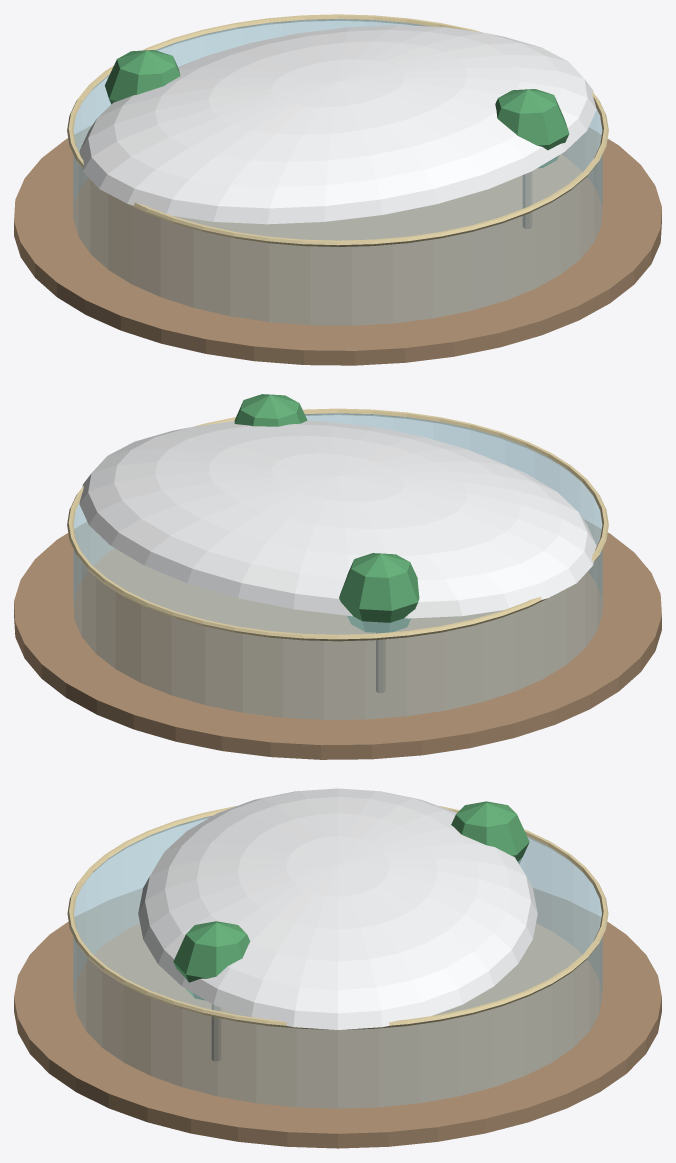
Rendered from reef-home-L.glb.
3 renders of one model, top to bottom at view 1: azimuth 30°, elevation 25°; view 2: azimuth 150°, elevation 25°; view 3: azimuth 270°, elevation 25°, orthographic.
Parts seen in each view (by area): view 1: Cylinder.015, Sphere.013, Cylinder.016, Torus.214, Sphere.014; view 2: Cylinder.015, Sphere.013, Cylinder.016, Sphere.014, Torus.214; view 3: Cylinder.015, Sphere.013, Cylinder.016, Sphere.014, Torus.214.
Boxes of the visible parts, box(x1,y1,x2,y2) form: Cylinder.015: box(14, 125, 661, 365); Sphere.013: box(79, 25, 596, 224); Cylinder.016: box(73, 19, 602, 325); Torus.214: box(67, 14, 608, 246); Sphere.014: box(105, 50, 569, 168); Cylinder.015: box(14, 520, 661, 759); Sphere.013: box(79, 420, 596, 618); Cylinder.016: box(73, 413, 602, 719); Sphere.014: box(234, 394, 419, 632); Torus.214: box(67, 408, 608, 641); Cylinder.015: box(14, 888, 661, 1148); Sphere.013: box(138, 788, 537, 1029); Cylinder.016: box(73, 815, 602, 1108); Sphere.014: box(173, 801, 529, 1000); Torus.214: box(67, 806, 608, 1029).
Bounding box in the file's own units: 24 × 6.2 × 24.
